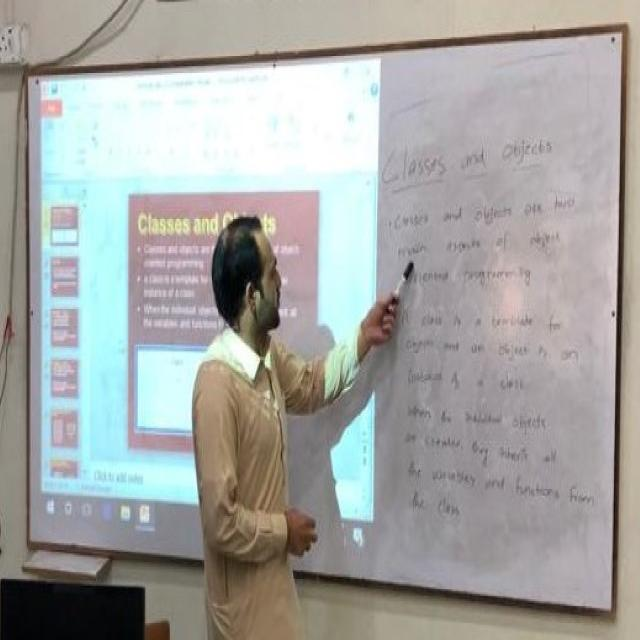Instructor: (184, 214, 312, 640)
Slide: (40, 66, 382, 563)
White-board: (26, 25, 623, 619)
